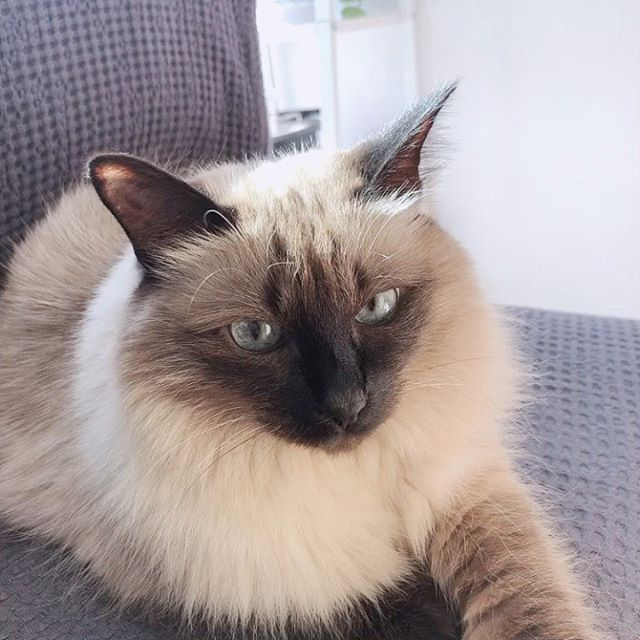cat: (88, 82, 477, 462)
